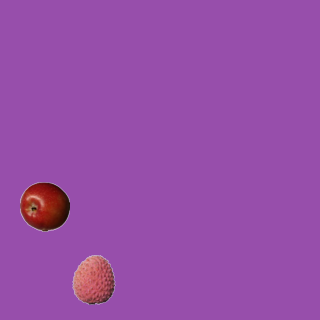Apple Braeburn: (19, 181, 69, 231)
Lychee: (68, 254, 118, 304)
